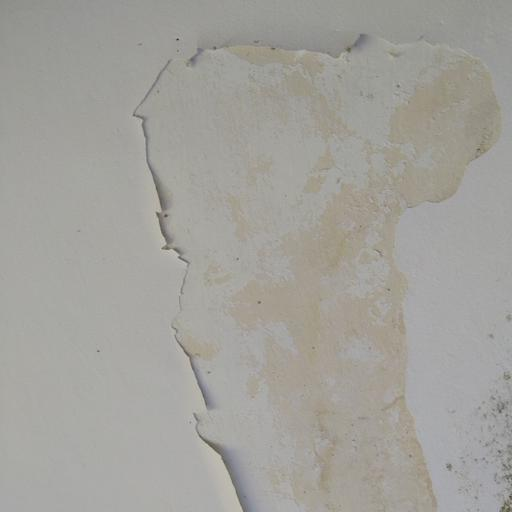peeling: (137, 20, 512, 512)
